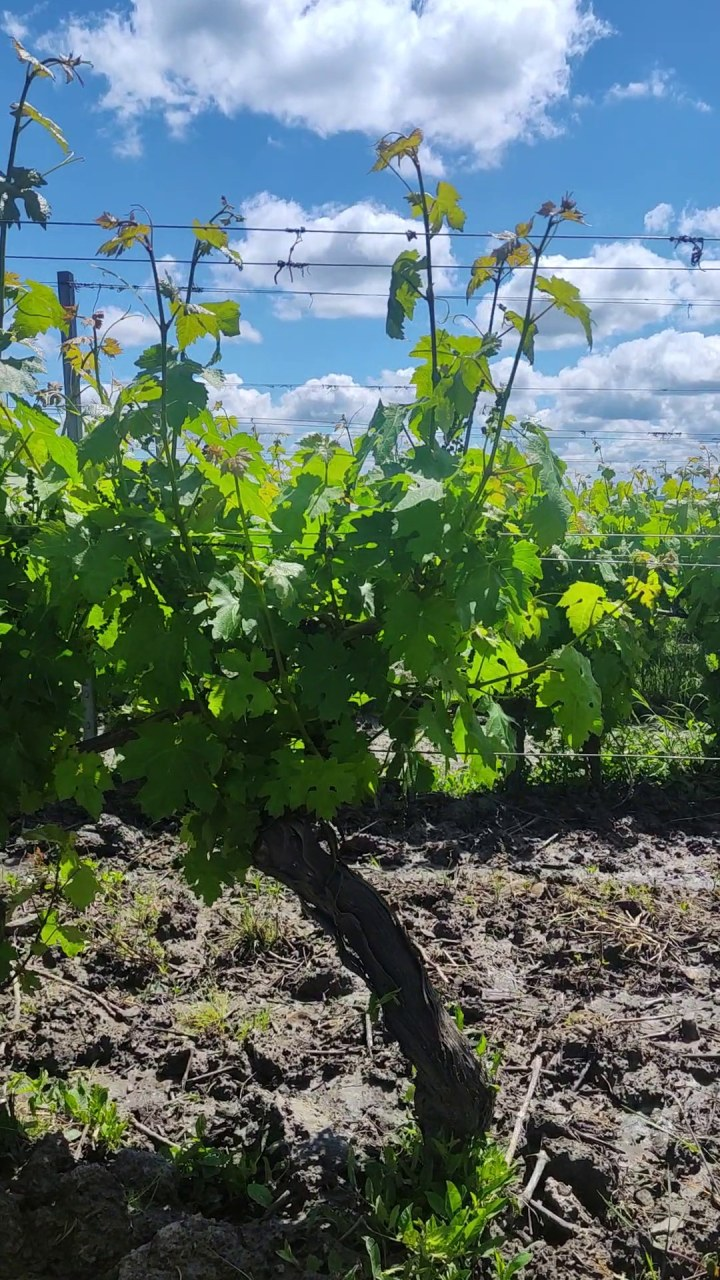vine_trunk: (254, 814, 493, 1138)
